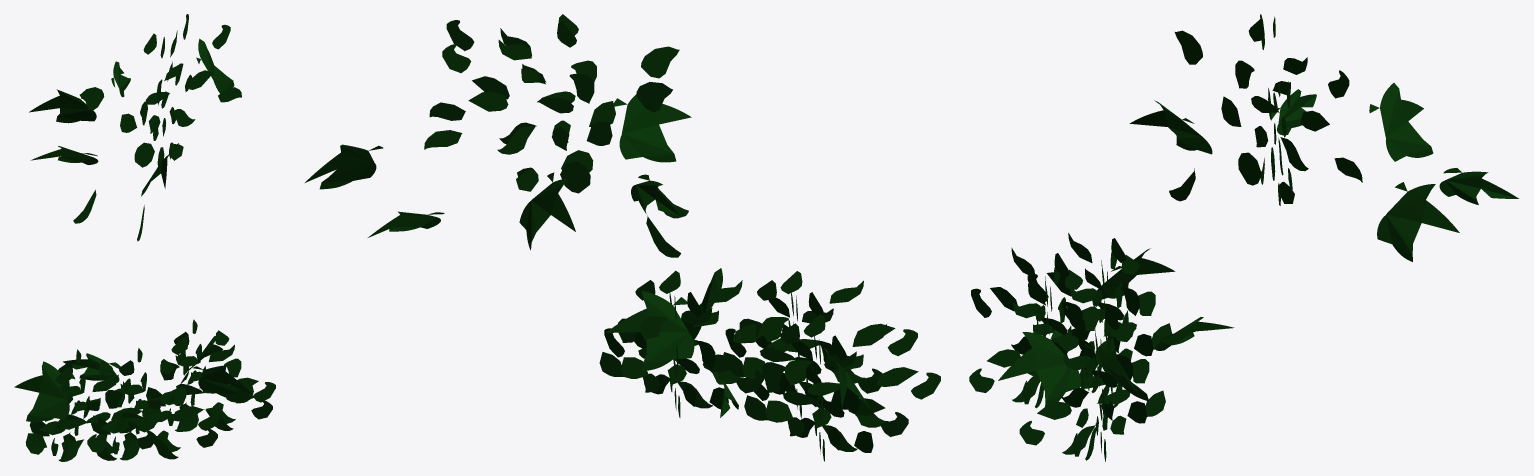
File: 01_openskp_material_63.002.obj
3 views of the same model, side by side, from view 1: azimuth 30°, elevation 25°; view 2: azimuth 150°, elevation 25°; view 3: azimuth 270°, elevation 25° (orthographic). The views are drawn at different scales.
Visible parts, largest first — view 1: 01_openskp_material_63.002; view 2: 01_openskp_material_63.002; view 3: 01_openskp_material_63.002.
Part boxes in pixels (x1,y1,x2,y2): 01_openskp_material_63.002: (14,14,275,461); 01_openskp_material_63.002: (305,14,940,461); 01_openskp_material_63.002: (969,14,1518,461).
Bounding box in the file's own units: 18.87 × 18.7 × 20.82.
